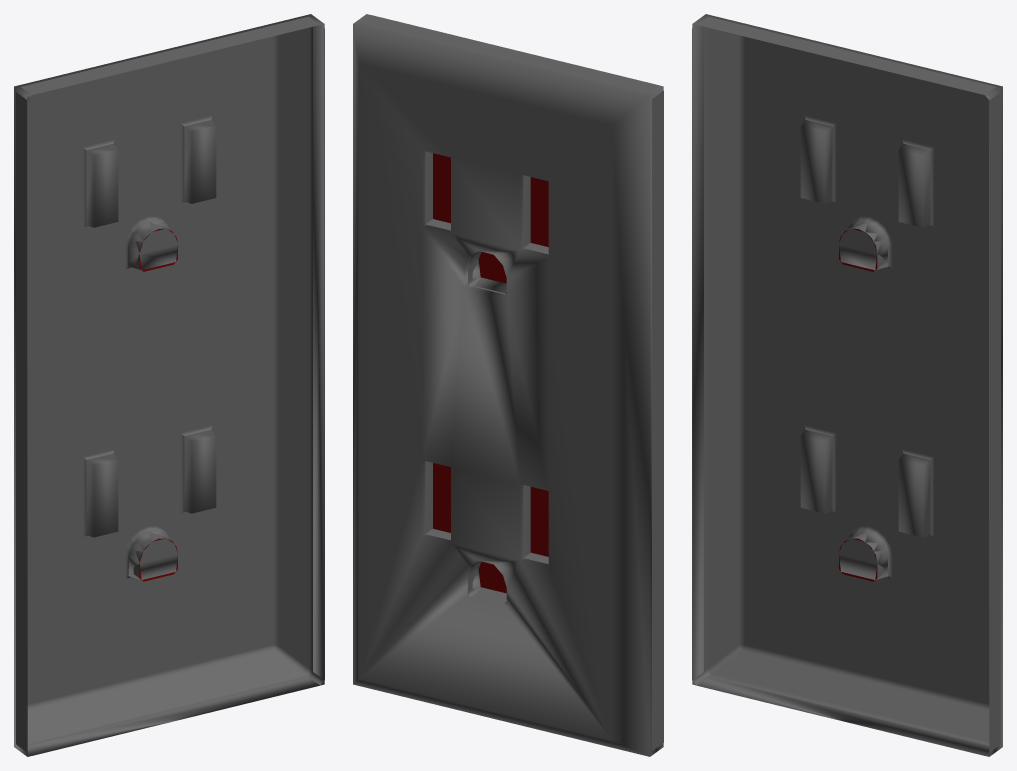
Rendered from ElectricalSocket_02_Mesh.fbx.
The picture shows the model from 3 angles, left to right: view 1: azimuth 30°, elevation 25°; view 2: azimuth 150°, elevation 25°; view 3: azimuth 330°, elevation 25°; orthographic projection.
Parts seen in each view (by area): view 1: ElectricalSocket_02_LOD0, ElectricalSocket_02_col; view 2: ElectricalSocket_02_col, ElectricalSocket_02_LOD0; view 3: ElectricalSocket_02_LOD0, ElectricalSocket_02_col.
Boxes of the visible parts, box(x1,y1,x2,y2) form: ElectricalSocket_02_LOD0: box(16, 16, 324, 755); ElectricalSocket_02_col: box(14, 14, 324, 756); ElectricalSocket_02_col: box(353, 14, 663, 756); ElectricalSocket_02_LOD0: box(360, 15, 663, 750); ElectricalSocket_02_LOD0: box(692, 16, 1000, 755); ElectricalSocket_02_col: box(692, 14, 1002, 756).
Size of what is drawn, in the model's own units: 9.17 by 19.47 by 1.58.
